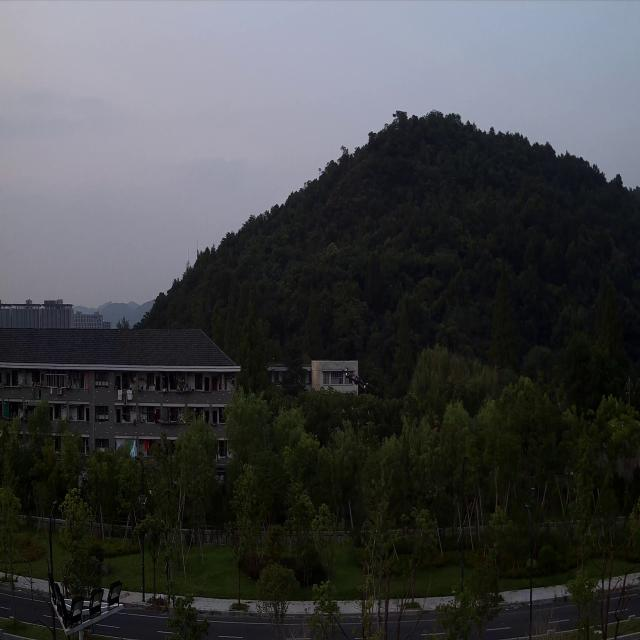UAV: (340, 364, 370, 393)
